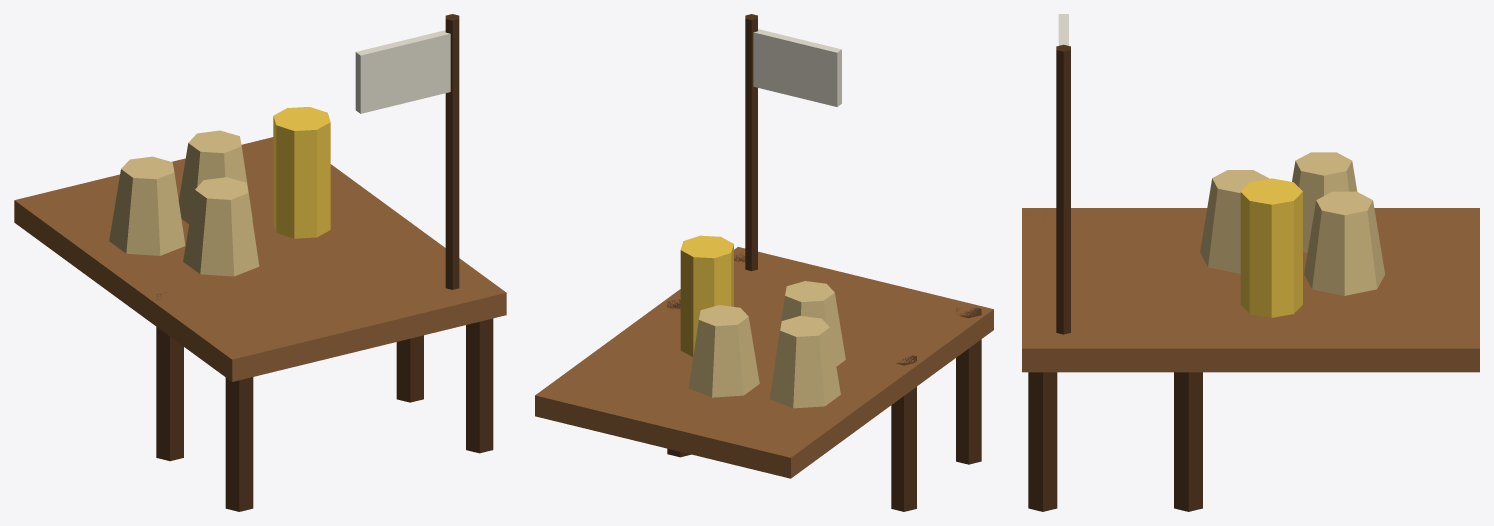
The model's file is wheat.obj.
3 views of the same model, side by side, from view 1: azimuth 30°, elevation 25°; view 2: azimuth 150°, elevation 25°; view 3: azimuth 270°, elevation 25° (orthographic). The views are drawn at different scales.
Visible parts, largest first — view 1: wheat; view 2: wheat; view 3: wheat.
Boxes of the visible parts, x1,y1,x2,y2 form: wheat: [14, 14, 506, 511]; wheat: [535, 14, 993, 511]; wheat: [1022, 14, 1479, 511].
Bounding box in the file's own units: 0.32 × 0.475 × 0.44.
